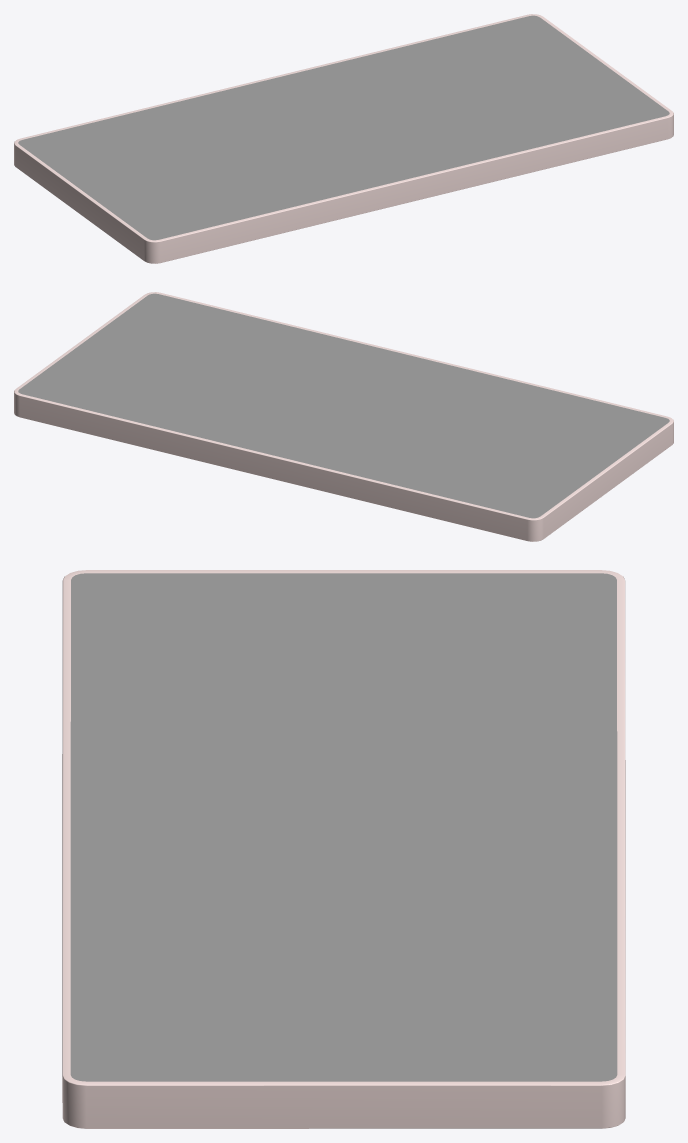
File: Public_8_Base_1.glb
3 views of the same model, one above another, from view 1: azimuth 30°, elevation 25°; view 2: azimuth 150°, elevation 25°; view 3: azimuth 270°, elevation 25° (orthographic). The views are drawn at different scales.
Visible parts, largest first — view 1: Public_8_Base_1; view 2: Public_8_Base_1; view 3: Public_8_Base_1.
Part boxes in pixels (left/top/right/bottom): Public_8_Base_1: left=14, top=14, right=673, bottom=263; Public_8_Base_1: left=14, top=292, right=673, bottom=541; Public_8_Base_1: left=62, top=570, right=625, bottom=1128.
Size of the model in its own units: 31.86 by 1.27 by 14.71.
Materials: 1 (1 with a texture image).
